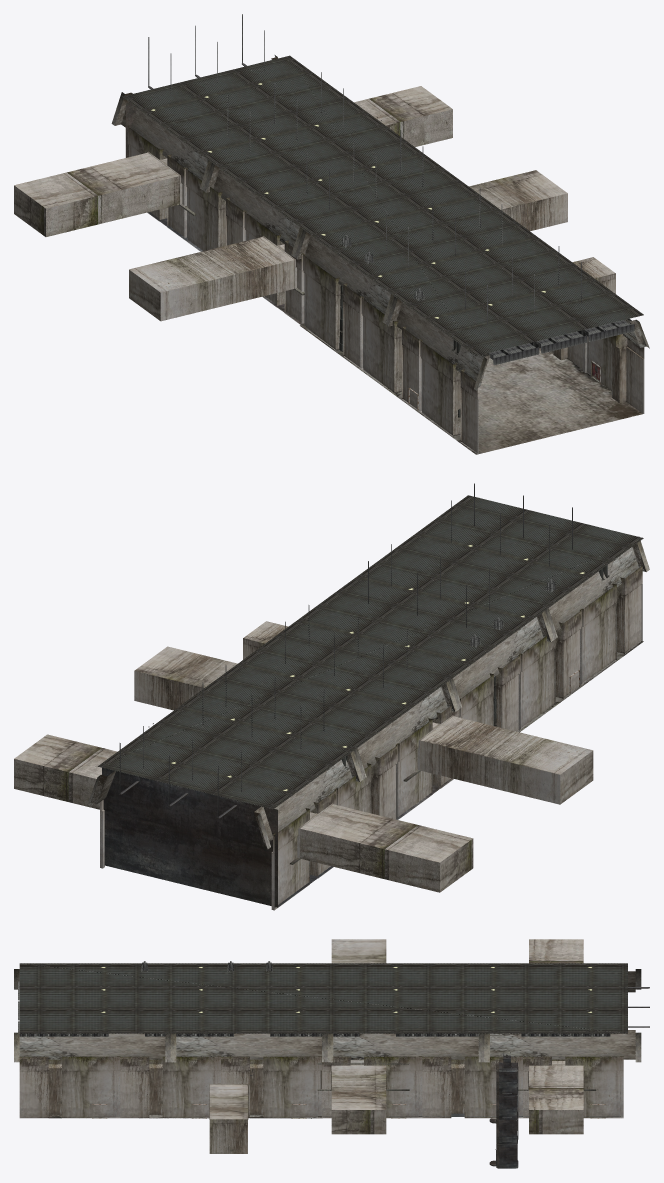
Rendered from factory.glb.
The picture shows the model from 3 angles, top to bottom: view 1: azimuth 30°, elevation 25°; view 2: azimuth 150°, elevation 25°; view 3: azimuth 270°, elevation 25°; orthographic projection. The views are drawn at different scales.
Parts seen in each view (by area): view 1: factory; view 2: factory; view 3: factory.
Boxes of the visible parts, box(x1,y1,x2,y2) form: factory: box(14, 14, 649, 454); factory: box(14, 483, 649, 910); factory: box(14, 939, 649, 1168).
Size of the model in its own units: 20.7 by 8.97 by 32.62.
Materials: 11 (10 with a texture image).
